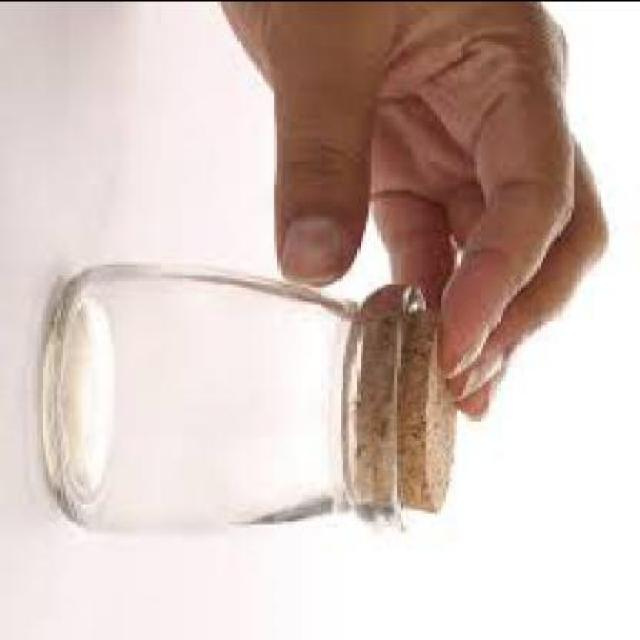GLASS: (42, 261, 378, 525)
